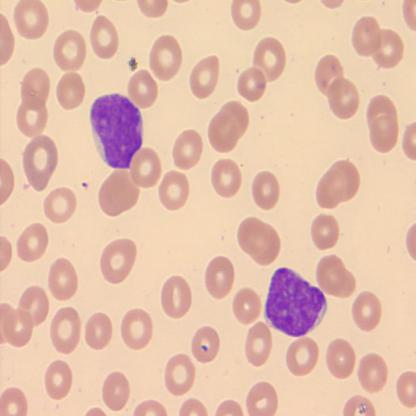Blast: (261, 263, 329, 340), (89, 91, 145, 173)
